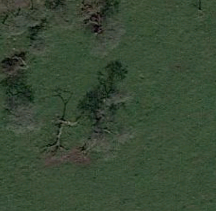tree: (2, 92, 40, 140), (95, 86, 142, 110)
